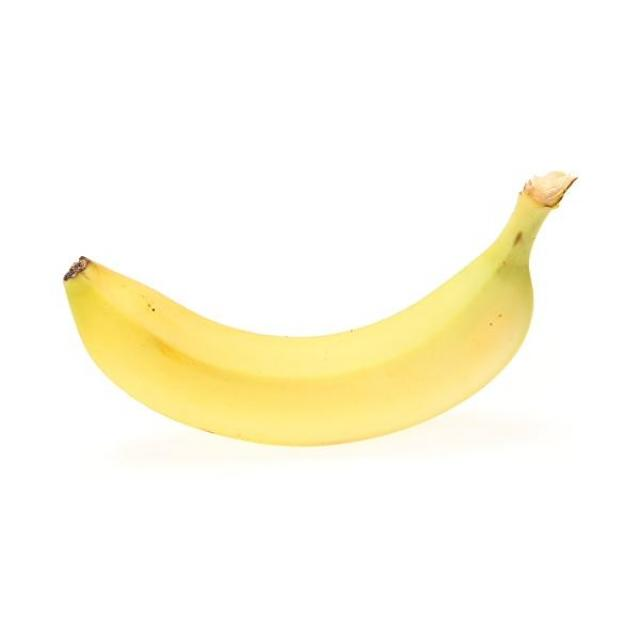banana: (57, 160, 588, 458)
